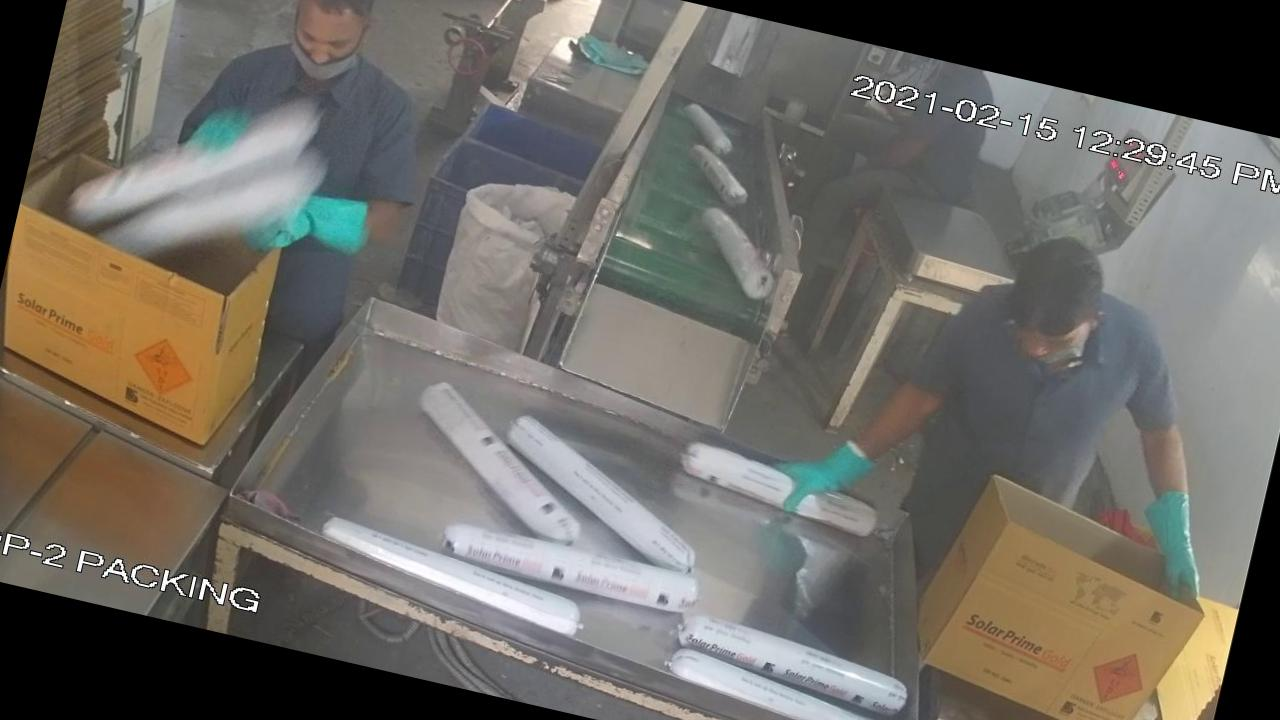Gloves: (1100, 426, 1258, 616), (740, 392, 904, 568), (229, 158, 424, 288)
